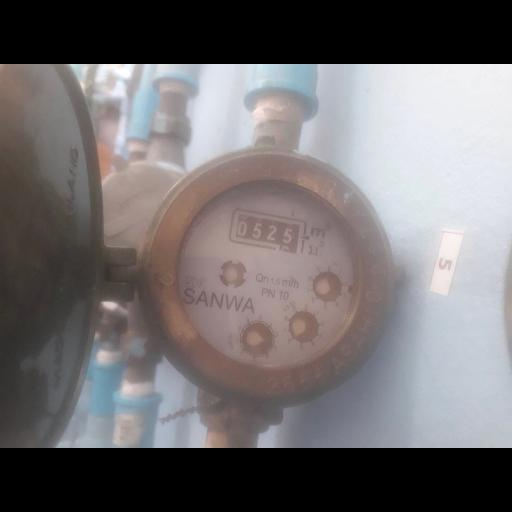0: (235, 215, 252, 240)
2: (262, 220, 281, 245)
5: (276, 221, 301, 253), (247, 217, 265, 242)
border_water_meter_number: (228, 208, 308, 255)
